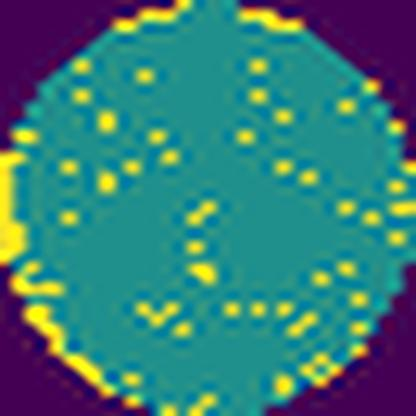Edge-Loc: (22, 298, 121, 400), (0, 143, 33, 275)
